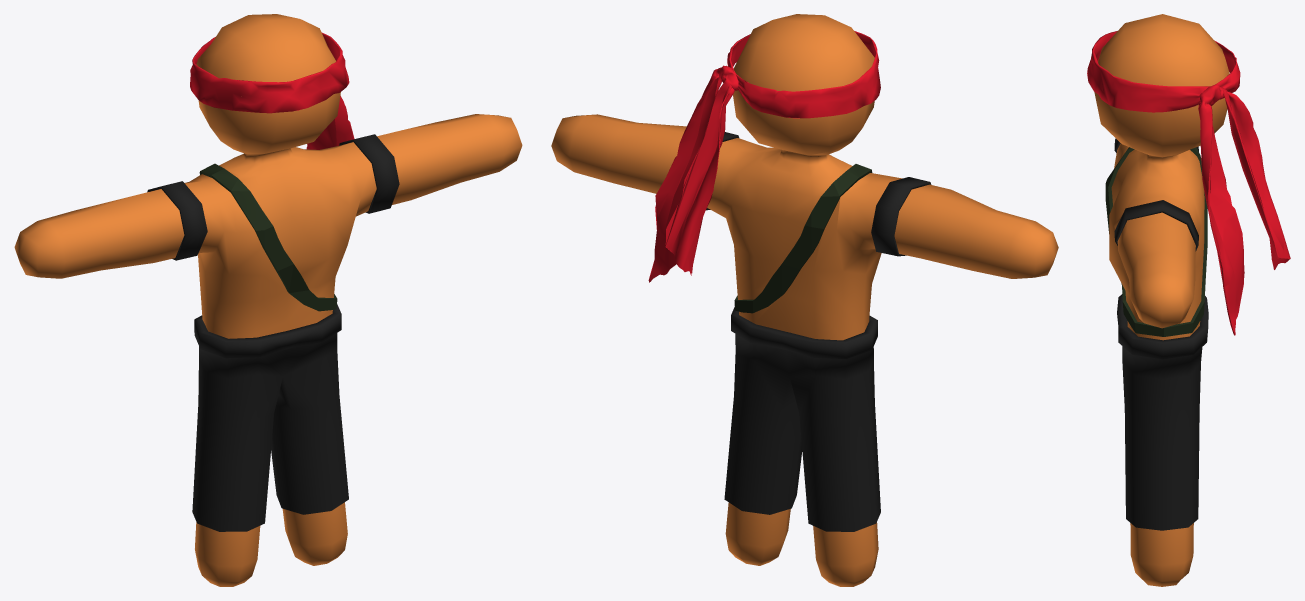
The model's file is RamboOneMaterial.fbx.
3 views of the same model, side by side, from view 1: azimuth 30°, elevation 25°; view 2: azimuth 150°, elevation 25°; view 3: azimuth 270°, elevation 25° (orthographic). The views are drawn at different scales.
Parts seen in each view (by area): view 1: Rambo; view 2: Rambo; view 3: Rambo.
Part boxes in pixels (x1=…): Rambo: x1=14, y1=14, x2=522, y2=586; Rambo: x1=551, y1=14, x2=1058, y2=586; Rambo: x1=1087, y1=14, x2=1290, y2=586.
Size of the model in its own units: 6.32 by 6.65 by 2.29.
Materials: 1 (1 with a texture image).
